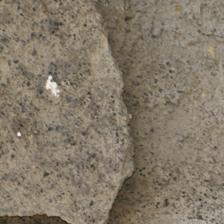Crack: (87, 9, 144, 222)
